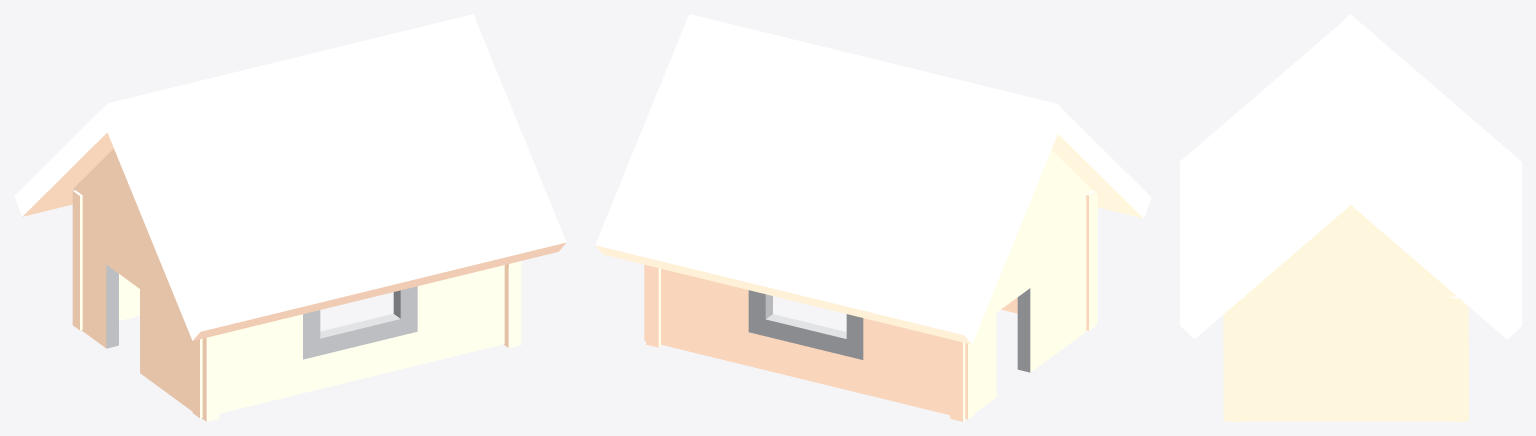
File: logcabin.glb
The picture shows the model from 3 angles, left to right: view 1: azimuth 30°, elevation 25°; view 2: azimuth 150°, elevation 25°; view 3: azimuth 270°, elevation 25°; orthographic projection. The views are drawn at different scales.
Parts seen in each view (by area): view 1: Cube.005; view 2: Cube.005; view 3: Cube.005.
Part boxes in pixels (left/top/right/bottom): Cube.005: left=14, top=14, right=566, bottom=421; Cube.005: left=595, top=14, right=1151, bottom=421; Cube.005: left=1180, top=14, right=1521, bottom=421.
Size of the model in its own units: 5.7 by 4.1 by 5.02.
